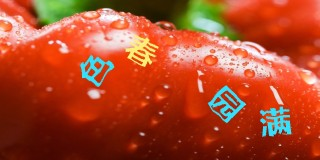园: (208, 85, 246, 124)
春: (122, 34, 160, 67)
满: (257, 104, 294, 137)
色: (78, 54, 115, 86)
